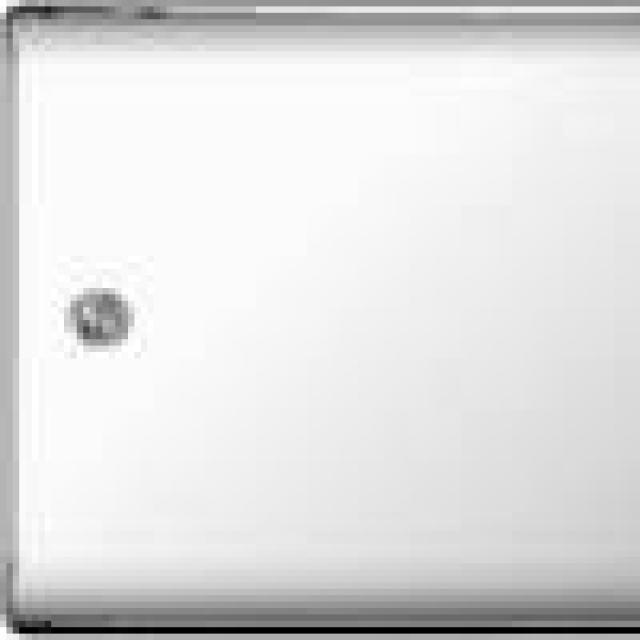Dry: (19, 26, 640, 621)
